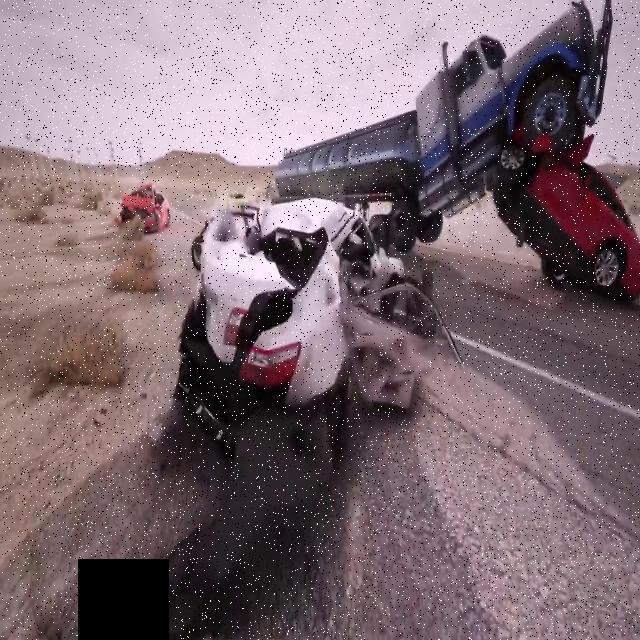accident: (265, 16, 640, 309), (174, 180, 416, 482)
